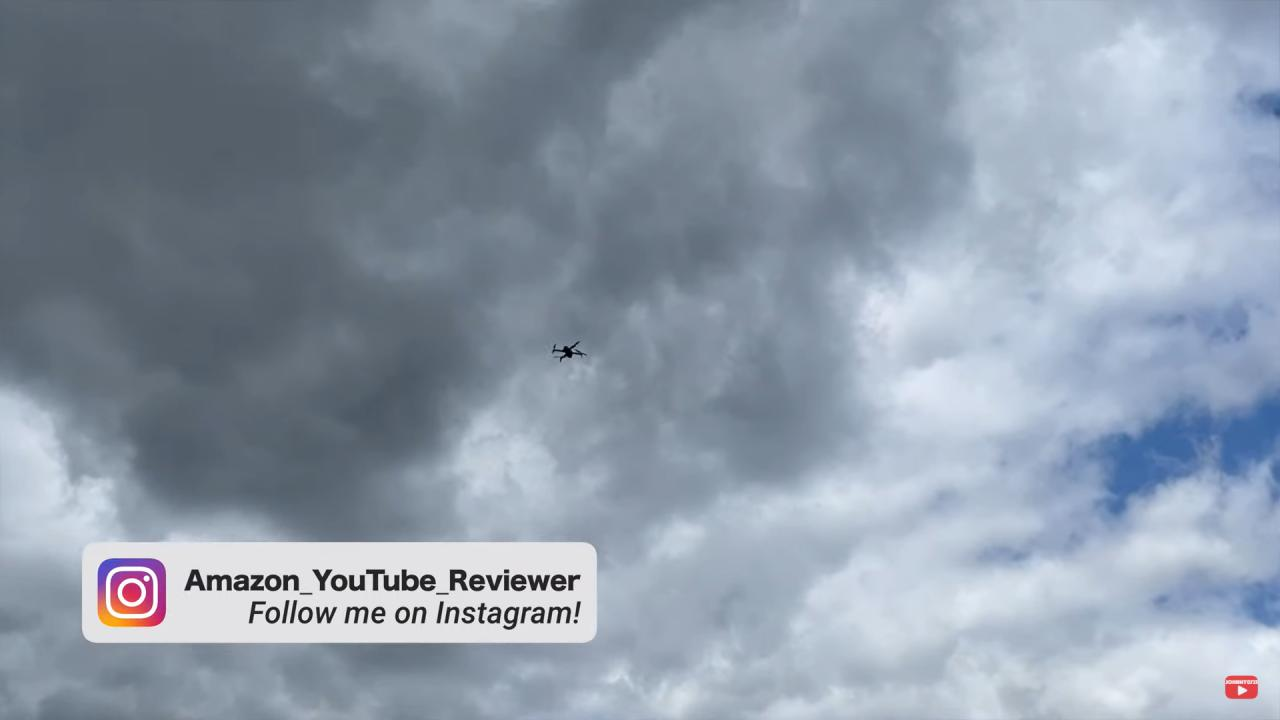Drone: (541, 335, 594, 373)
